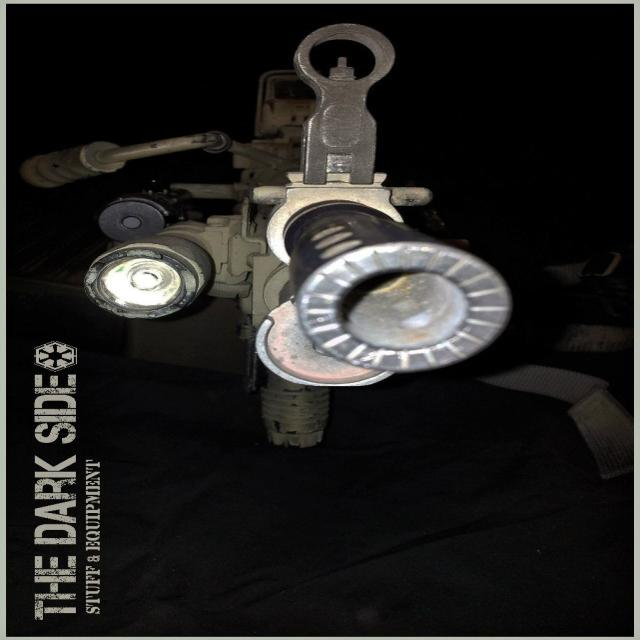firearm: (18, 18, 516, 454)
